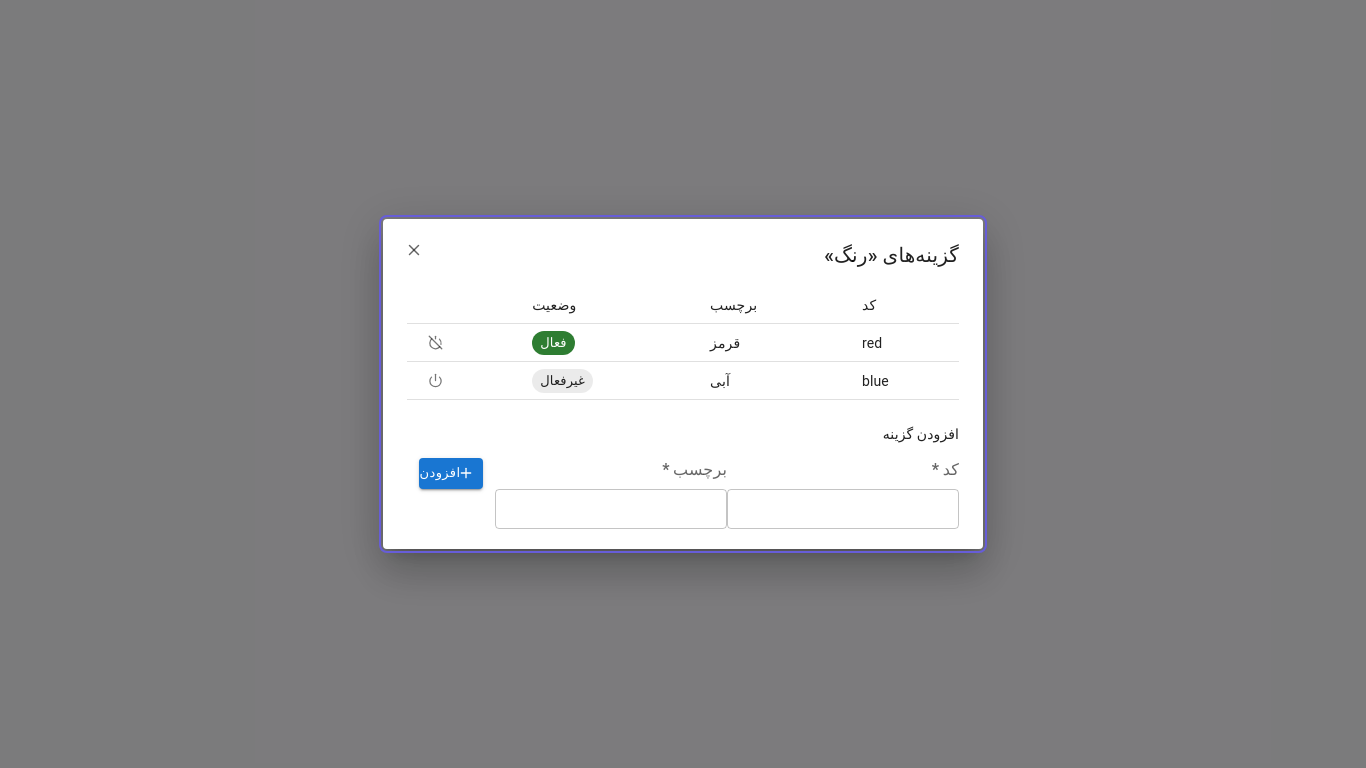
Test: AttributeOptionsDialog › toggles an option status with its expected version
Click the button named "غیرفعال کردن گزینهٔ قرمز" at (436, 342), box [423,330,448,355]
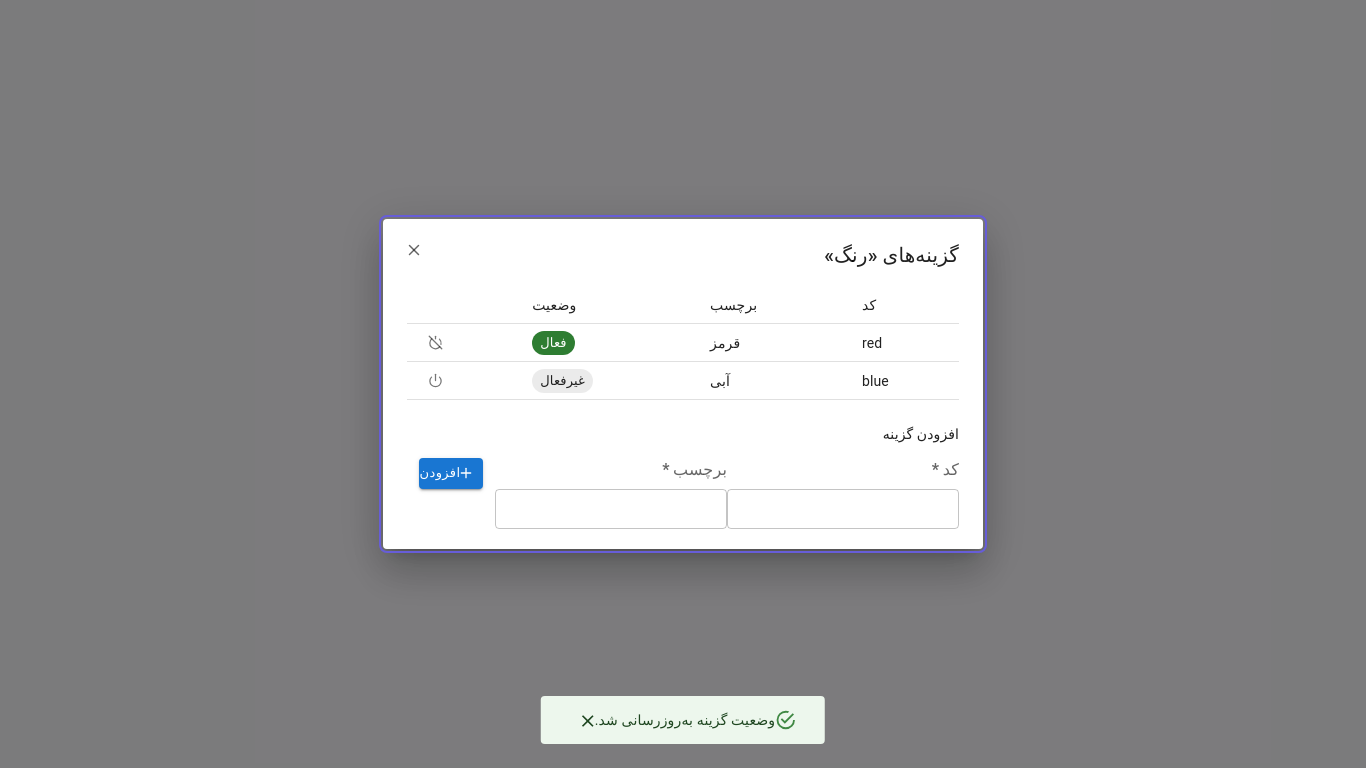
Result: the text "وضعیت گزینه به‌روزرسانی شد." is shown at [595,712,775,728]
